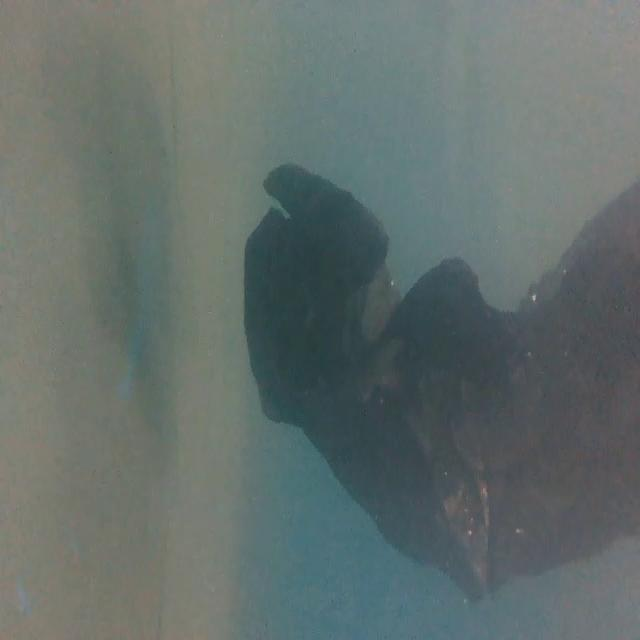plastic bags: (237, 157, 640, 612)
